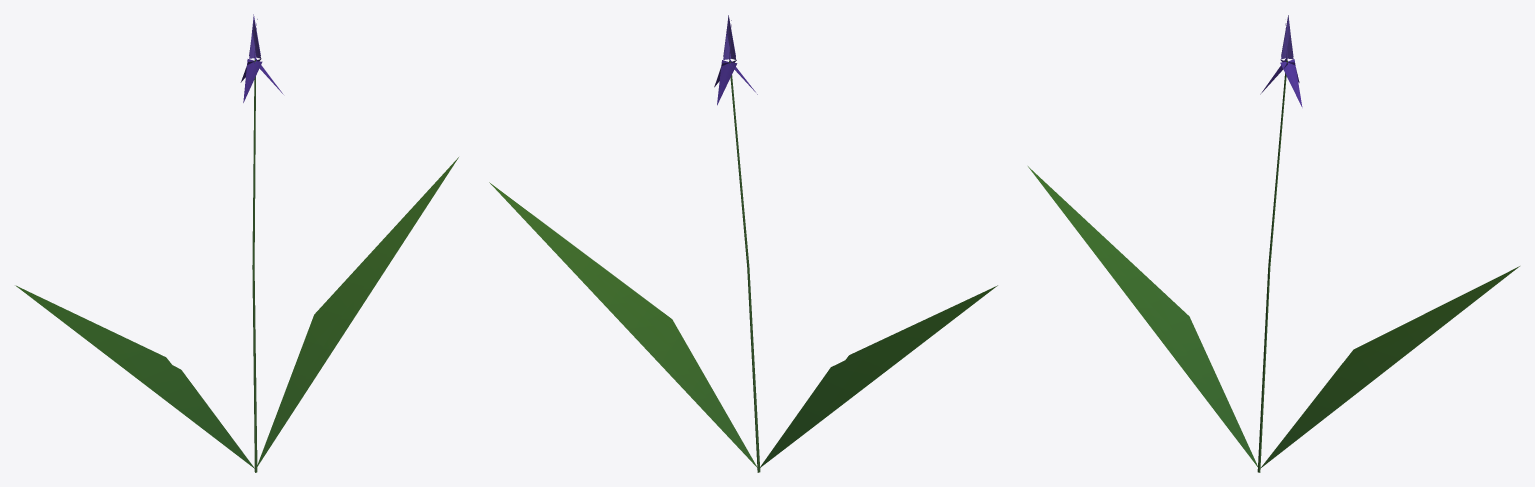
File: flower-iris-a.lod2.glb
The picture shows the model from 3 angles, left to right: view 1: azimuth 30°, elevation 25°; view 2: azimuth 150°, elevation 25°; view 3: azimuth 330°, elevation 25°; orthographic projection. The views are drawn at different scales.
Parts seen in each view (by area): view 1: flower-iris-a.lod2; view 2: flower-iris-a.lod2; view 3: flower-iris-a.lod2.
Boxes of the visible parts, x1,y1,x2,y2 form: flower-iris-a.lod2: [15, 14, 458, 472]; flower-iris-a.lod2: [489, 15, 997, 472]; flower-iris-a.lod2: [1028, 15, 1519, 472].
Bounding box in the file's own units: 0.8592 × 0.7819 × 0.1069.
